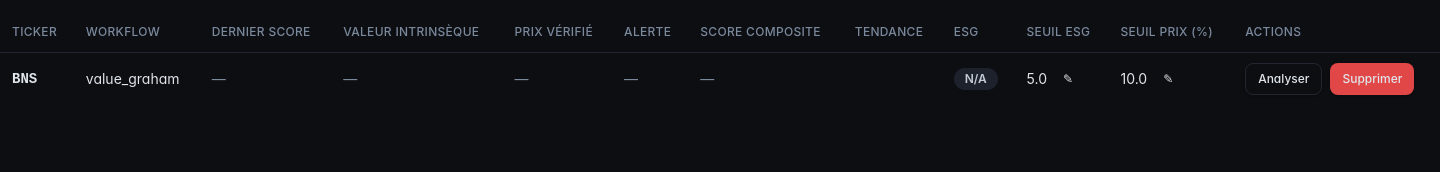
Test: WatchlistTable — Seuil Prix › affiche un message d'erreur si patchPriceThreshold rejette
Step 1. Click the button with test id "watchlist-price-threshold-abc-123-edit-btn" → x=1168, y=78, box [1151,62,1185,94]
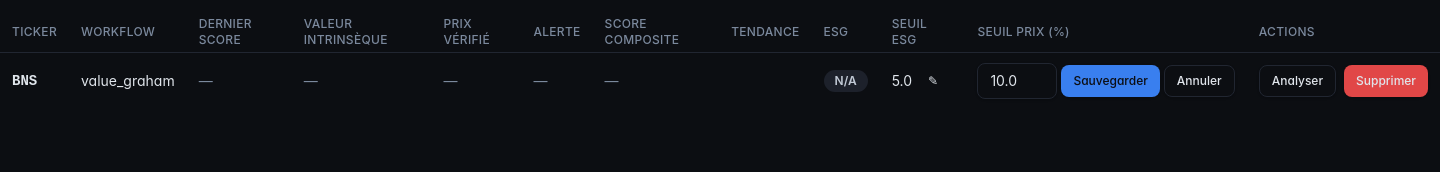
Step 2. Click the button with test id "watchlist-price-threshold-abc-123-save-btn" → x=1111, y=80, box [1061,64,1160,96]
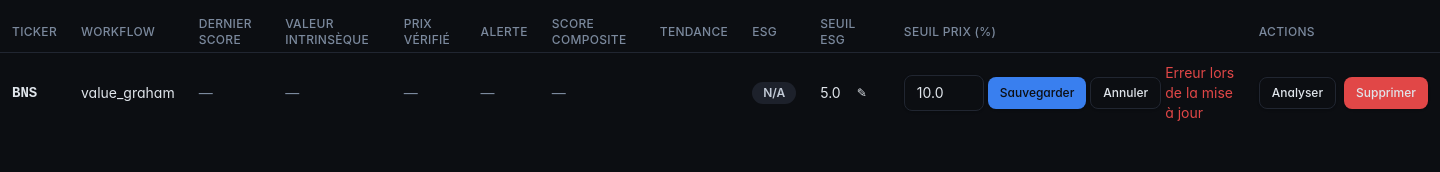
Expected: the text "Erreur lors de la mise à jour" is shown, [1165,62,1235,122]
